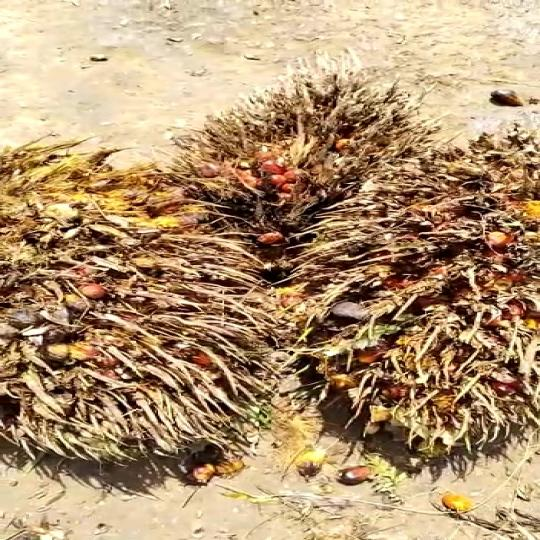terlalu masak: (295, 140, 540, 473), (159, 75, 424, 250)
